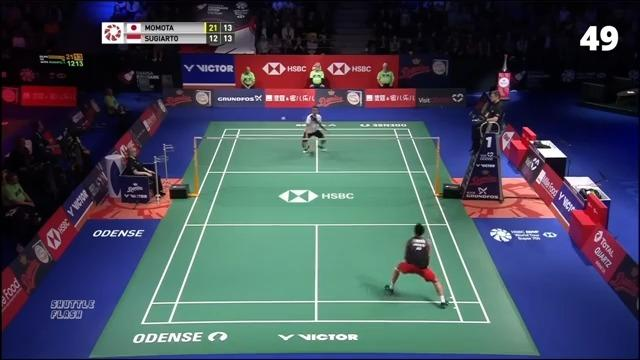Shuttlecock: (280, 115, 286, 121)
